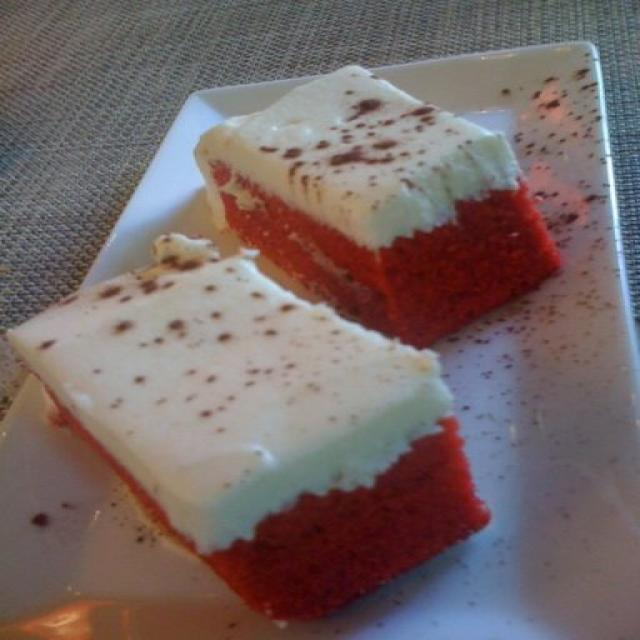Food -Biodegradable-: (8, 245, 492, 633), (200, 62, 555, 341)
